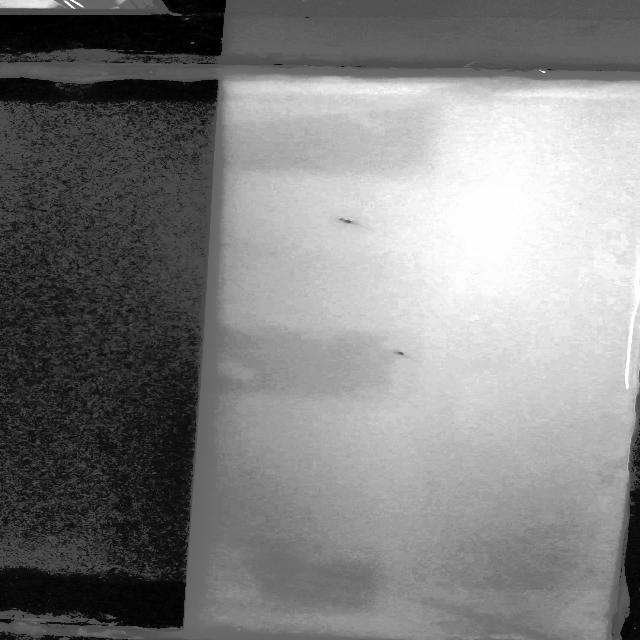shrimp: (325, 208, 373, 230), (378, 347, 420, 362)
